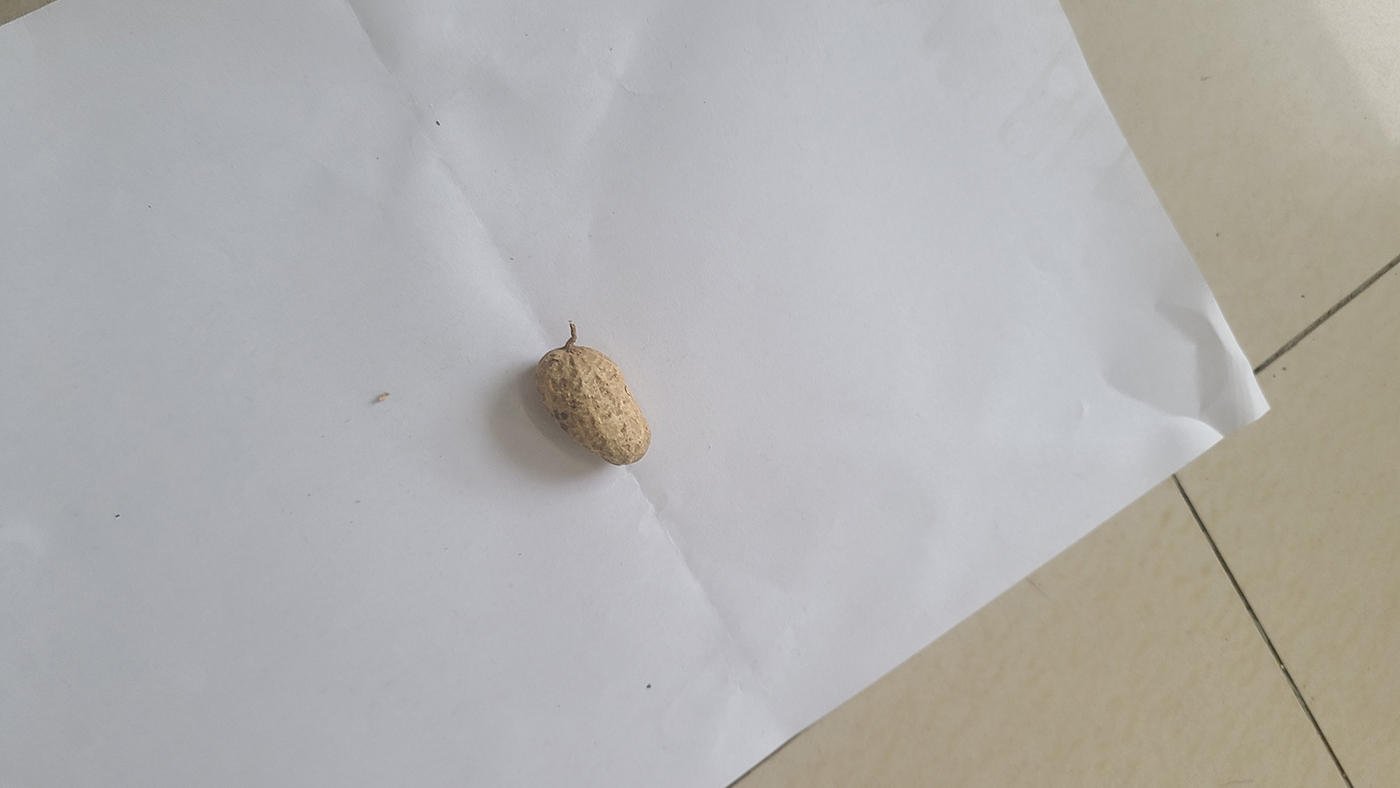h: (535, 345, 654, 466)
